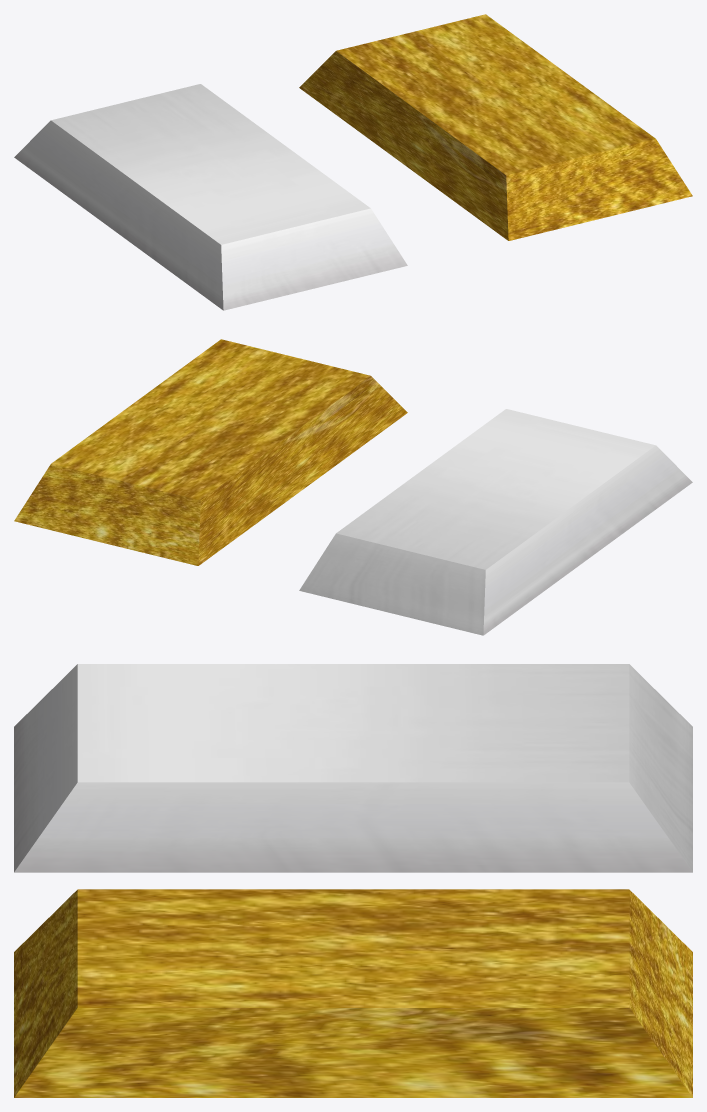
3 views of the same model, one above another, from view 1: azimuth 30°, elevation 25°; view 2: azimuth 150°, elevation 25°; view 3: azimuth 270°, elevation 25° (orthographic). The views are drawn at different scales.
Visible parts, largest first — view 1: sliver, gold; view 2: sliver, gold; view 3: sliver, gold.
Boxes of the visible parts, x1,y1,x2,y2 form: sliver: [14, 84, 407, 310]; gold: [299, 14, 692, 240]; sliver: [299, 409, 692, 635]; gold: [14, 339, 407, 565]; sliver: [14, 664, 692, 872]; gold: [14, 889, 692, 1097].
Bounding box in the file's own units: 11.95 × 1.15 × 9.24.
